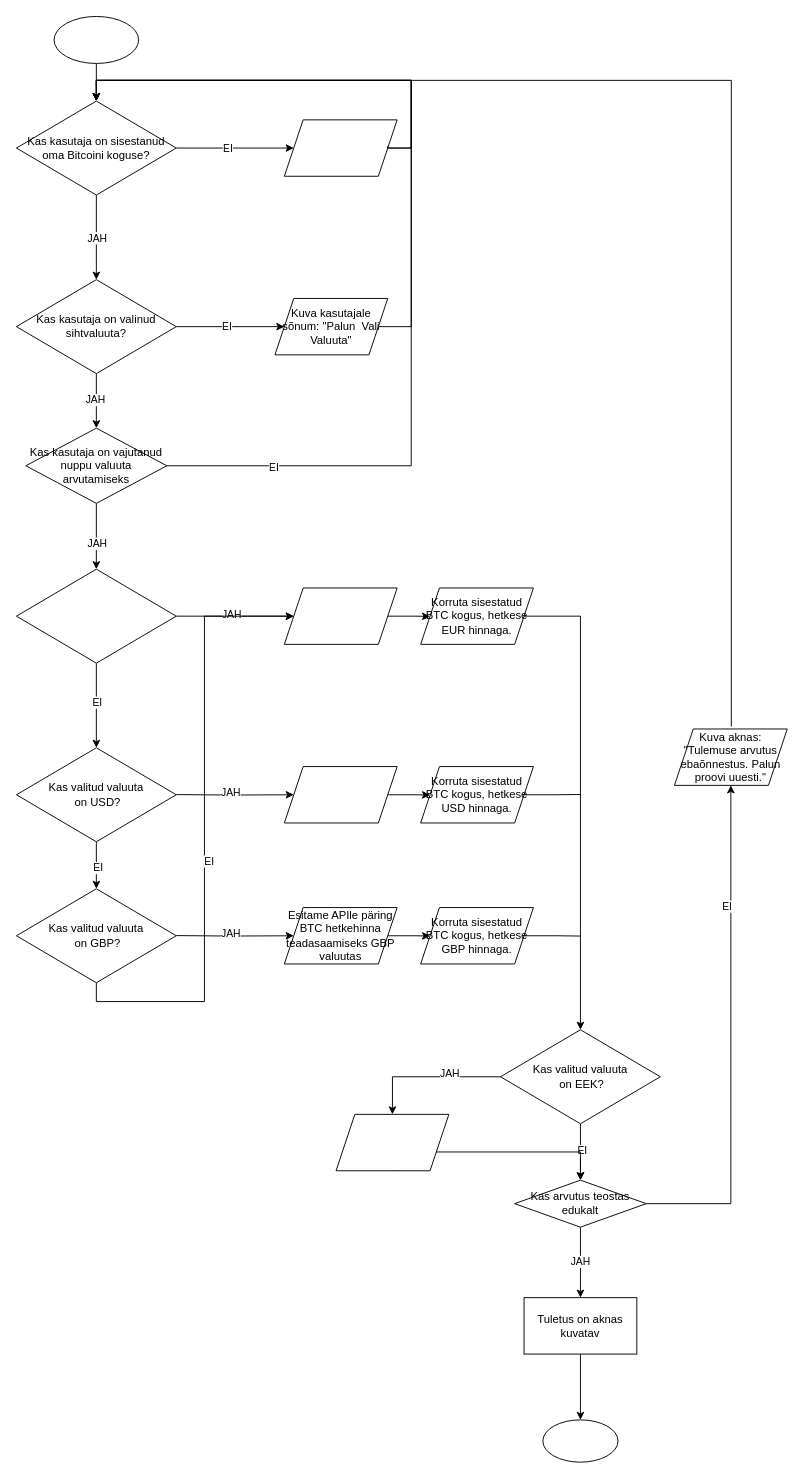
Some shapes in this 804 by 1479 pixel diagram are drawn without their labels. The shapes that lost their labels are listed below. From the top down, each one's centre as x and y in pixels, then its label:
[96,39]: Algus
[340,147]: Kuva kasutajale sõnum: "Palun Sisesta BTC kogus"
[96,615]: Kas valitud valuuta on EUR?
[340,615]: Esitame APIle päring BTC hetkehinna teadasaamiseks EUR valuutas
[340,794]: Esitame APIle päring BTC hetkehinna teadasaamiseks USD valuutas
[392,1142]: Korruta saadut tulemus läbu arvuga 15.6466
[580,1440]: Lõpp
